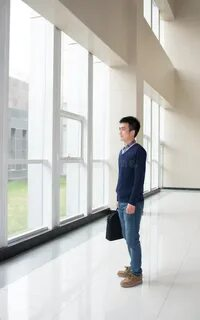awake: (114, 115, 148, 289)
